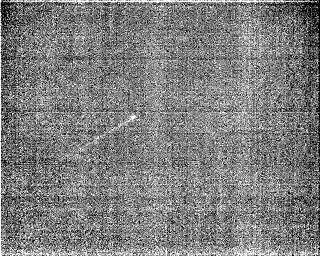AIRPLANE: (70, 113, 138, 154)
